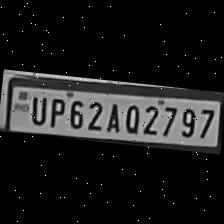2: (84, 97, 106, 131), (140, 102, 161, 136)
6: (64, 96, 86, 130)
7: (196, 106, 218, 140), (158, 102, 177, 138)
9: (176, 104, 198, 138)
A: (102, 98, 123, 132)
P: (45, 94, 67, 128)
Q: (120, 100, 142, 134)
U: (27, 91, 49, 125)
